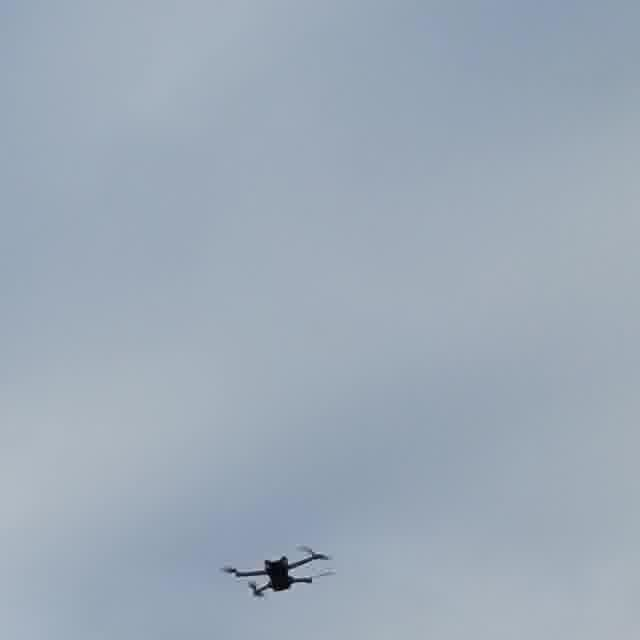Drohne: (221, 546, 332, 596)
